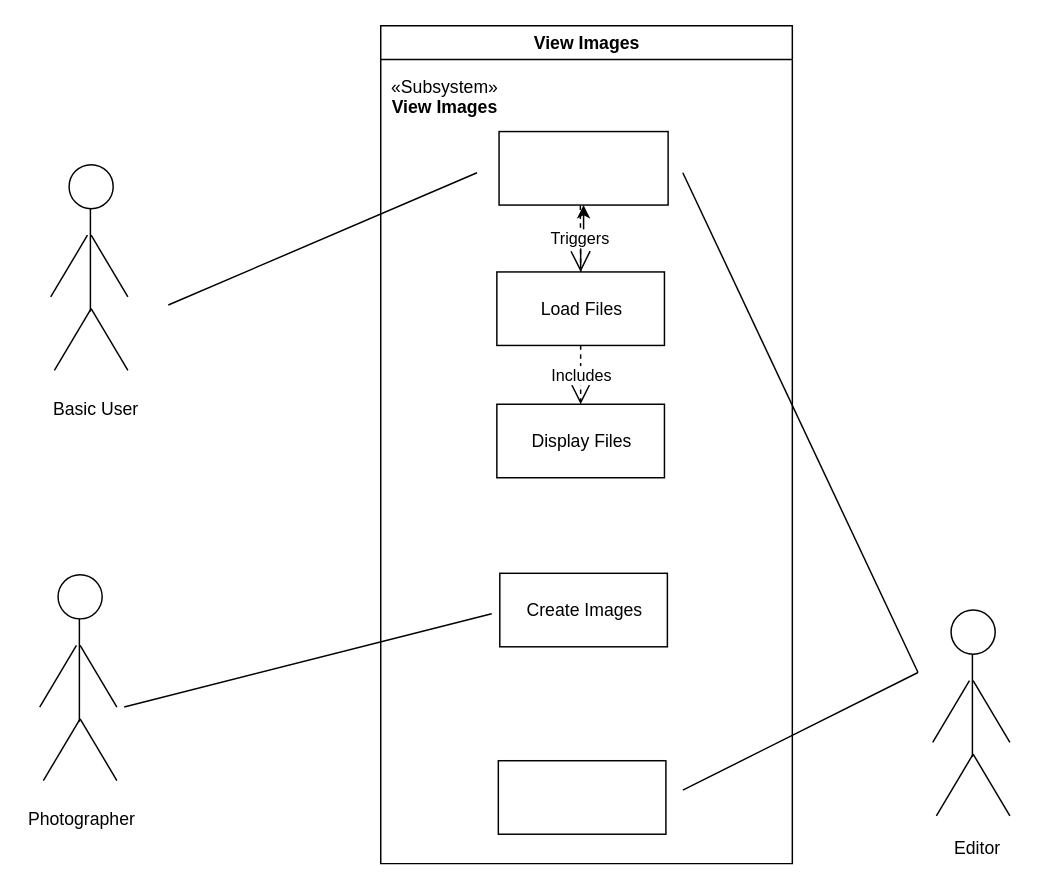
Image size: 1050x889. Some labels were removed from this diagram. Here are the shapes that lost their labels. From the top down, the centre of each, then its label:
At [583,167]: "User Action".
At [581,796]: "Classify Images".
